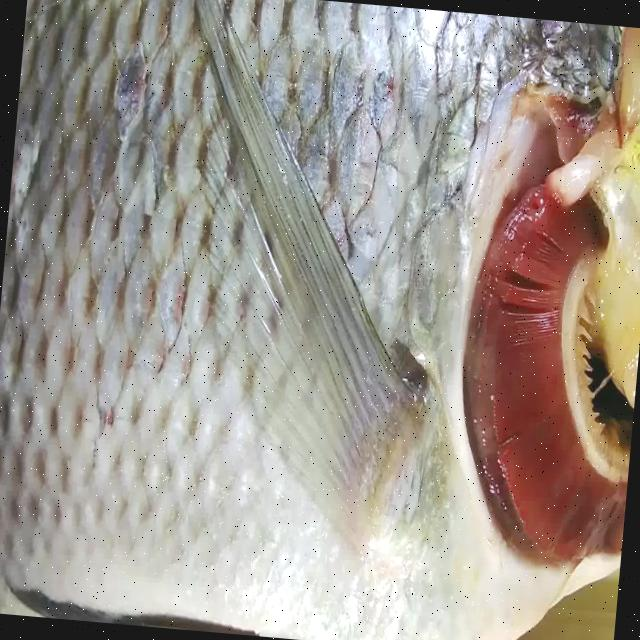Fresh: (0, 0, 476, 595), (439, 87, 640, 620)
